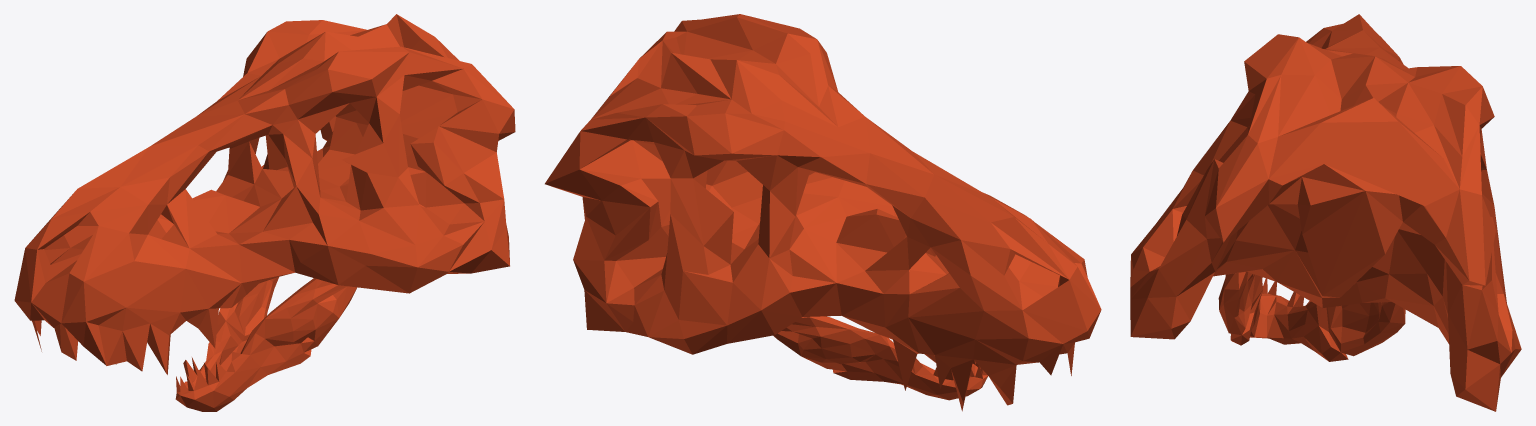
File: skull.obj
The picture shows the model from 3 angles, left to right: view 1: azimuth 30°, elevation 25°; view 2: azimuth 150°, elevation 25°; view 3: azimuth 270°, elevation 25°; orthographic projection. The views are drawn at different scales.
Visible parts, largest first — view 1: T-RexSkull_Jaw_SimplePolygons__repaired_; view 2: T-RexSkull_Jaw_SimplePolygons__repaired_; view 3: T-RexSkull_Jaw_SimplePolygons__repaired_.
Part boxes in pixels (bbox=[...]): T-RexSkull_Jaw_SimplePolygons__repaired_: bbox=[14, 14, 515, 411]; T-RexSkull_Jaw_SimplePolygons__repaired_: bbox=[545, 14, 1101, 411]; T-RexSkull_Jaw_SimplePolygons__repaired_: bbox=[1130, 14, 1521, 411].
Size of the model in its own units: 0.8543 by 0.5622 by 0.5091.
